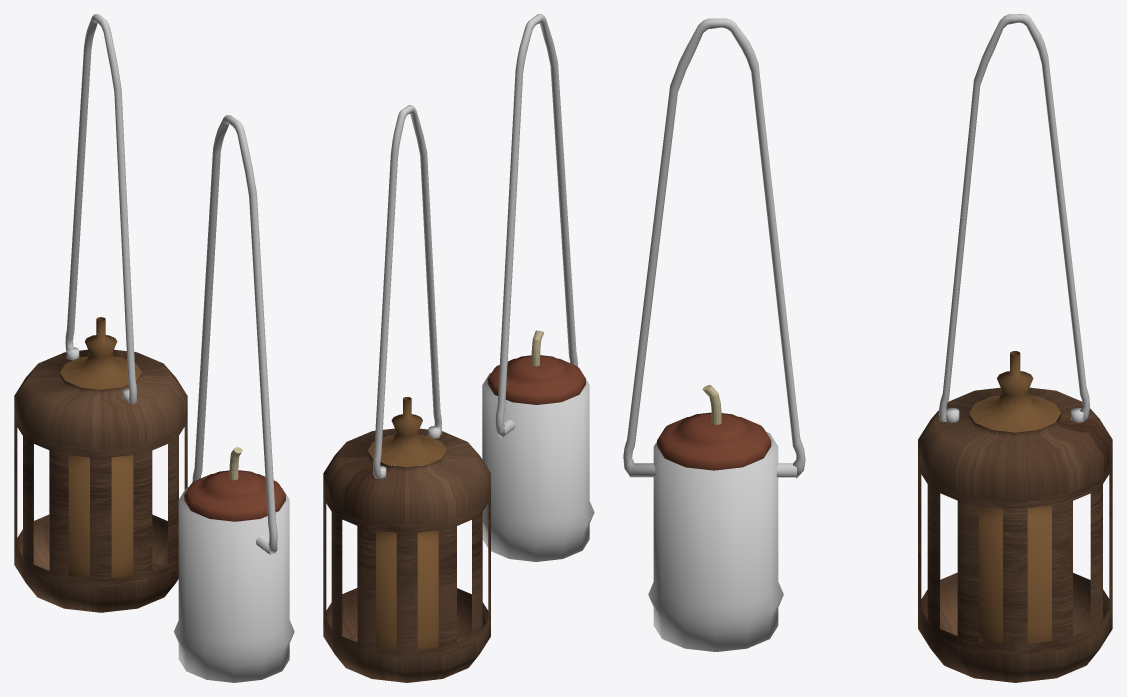
The model's file is den (1).fbx.
3 renders of one model, left to right at view 1: azimuth 30°, elevation 25°; view 2: azimuth 150°, elevation 25°; view 3: azimuth 270°, elevation 25°, orthographic. The views are drawn at different scales.
Visible parts, largest first — view 1: Cylinder.005, Cylinder, Cylinder.004, Cylinder.008, Cylinder.009, Cylinder.012, Cylinder.011; view 2: Cylinder.005, Cylinder, Cylinder.004, Cylinder.008, Cylinder.009, Cylinder.012, Cylinder.011; view 3: Cylinder.005, Cylinder, Cylinder.004, Cylinder.008, Cylinder.009, Cylinder.012, Cylinder.011.
Boxes of the visible parts, <box> form: Cylinder.005: <box>14,349,187,612</box>; Cylinder: <box>174,487,294,682</box>; Cylinder.004: <box>192,115,277,555</box>; Cylinder.008: <box>65,14,136,403</box>; Cylinder.009: <box>68,455,133,578</box>; Cylinder.012: <box>184,470,285,521</box>; Cylinder.011: <box>60,317,141,389</box>; Cylinder.005: <box>323,428,490,682</box>; Cylinder: <box>482,373,594,561</box>; Cylinder.004: <box>495,14,577,437</box>; Cylinder.008: <box>373,105,441,478</box>; Cylinder.009: <box>376,530,438,649</box>; Cylinder.012: <box>487,355,585,404</box>; Cylinder.011: <box>367,397,446,467</box>; Cylinder.005: <box>918,387,1112,682</box>; Cylinder: <box>648,432,783,651</box>; Cylinder.004: <box>623,18,805,478</box>; Cylinder.008: <box>939,14,1089,421</box>; Cylinder.009: <box>979,506,1051,643</box>; Cylinder.012: <box>657,412,771,470</box>; Cylinder.011: <box>969,351,1060,432</box>.
Size of the model in its own units: 51.52 by 185 by 130.
